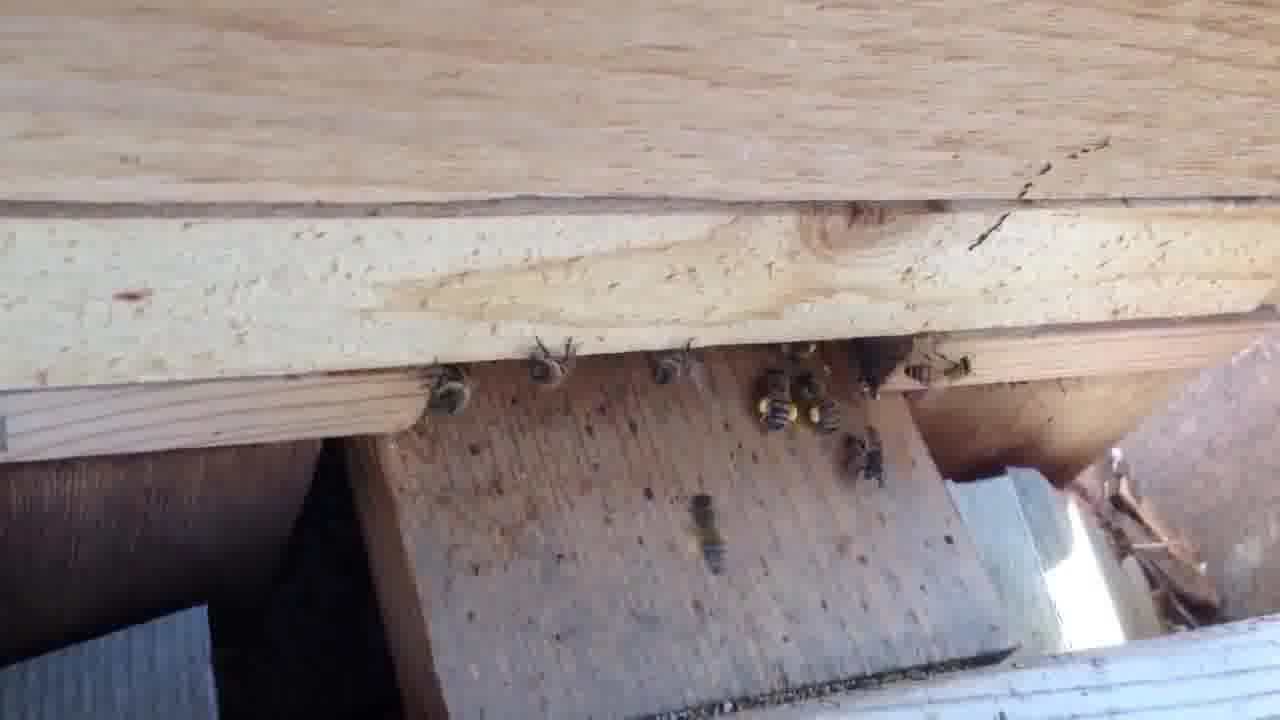pollen: (682, 494, 732, 578), (792, 374, 851, 434), (743, 376, 797, 433)
